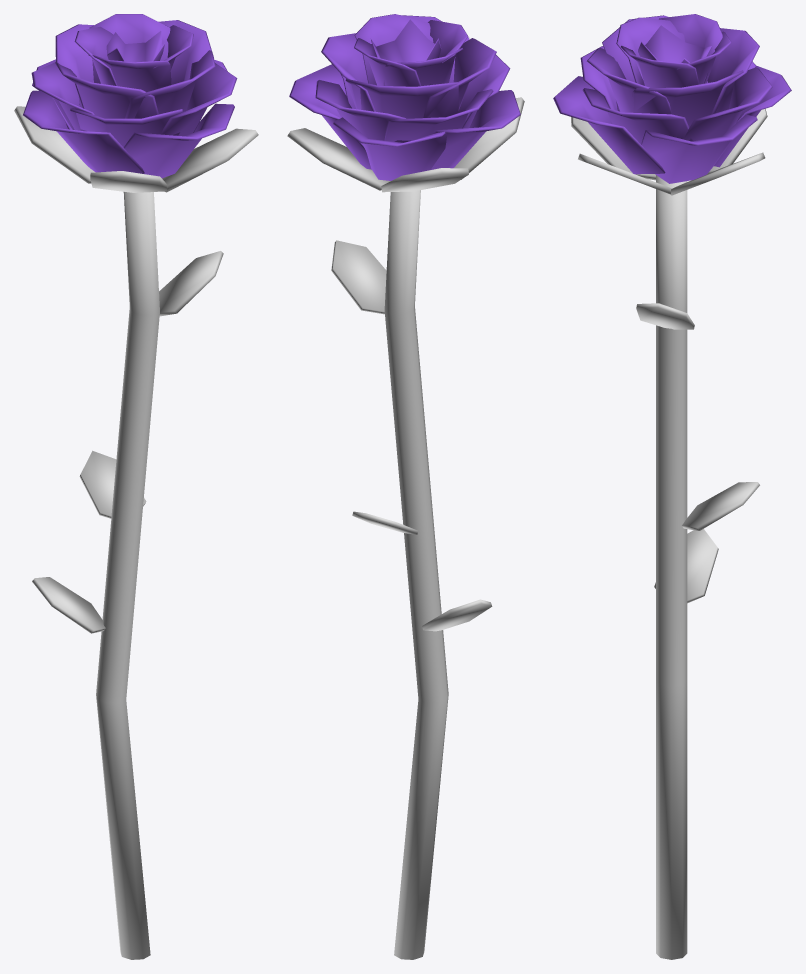
File: LostLove.glb
3 views of the same model, side by side, from view 1: azimuth 30°, elevation 25°; view 2: azimuth 150°, elevation 25°; view 3: azimuth 270°, elevation 25° (orthographic).
Visible parts, largest first — view 1: Cube.002, Plane, Plane.003, Plane.008, Cube.006, Plane.006, Cube.007, Plane.007, Cube.001, Plane.011, Cube.004, Plane.013 (+9 smaller); view 2: Cube.002, Plane.001, Cube.007, Plane.009, Plane, Plane.002, Cube.003, Plane.005, Plane.008, Plane.004, Plane.010, Plane.016 (+9 smaller); view 3: Cube.002, Plane.002, Plane.003, Plane.010, Plane.005, Plane.006, Plane.011, Plane.009, Cube.001, Cube, Plane.012, Plane.016 (+11 smaller).
Boxes of the visible parts, <box> form: Cube.002: <box>96,192,159,959</box>; Plane: <box>23,90,144,173</box>; Plane.003: <box>123,103,234,178</box>; Plane.008: <box>55,62,158,118</box>; Cube.006: <box>162,128,258,192</box>; Plane.006: <box>161,63,237,136</box>; Cube.007: <box>159,251,223,316</box>; Plane.007: <box>70,108,182,147</box>; Cube.001: <box>32,577,105,633</box>; Plane.011: <box>125,50,215,118</box>; Cube.004: <box>14,106,95,183</box>; Plane.013: <box>89,14,170,83</box>; Cube.002: <box>384,190,448,959</box>; Plane.001: <box>333,117,446,180</box>; Cube.007: <box>331,240,386,314</box>; Plane.009: <box>345,78,458,118</box>; Plane: <box>430,90,520,169</box>; Plane.002: <box>289,64,371,169</box>; Cube.003: <box>287,128,390,190</box>; Plane.005: <box>315,80,410,142</box>; Plane.008: <box>423,38,496,117</box>; Plane.004: <box>384,89,493,141</box>; Plane.010: <box>321,33,375,111</box>; Plane.016: <box>371,19,441,62</box>; Cube.002: <box>656,175,687,959</box>; Plane.002: <box>641,114,757,183</box>; Plane.003: <box>553,76,665,174</box>; Plane.010: <box>632,70,743,127</box>; Plane.005: <box>683,67,772,140</box>; Plane.006: <box>582,88,693,144</box>; Plane.011: <box>587,47,671,114</box>; Plane.009: <box>707,28,759,114</box>; Cube.001: <box>654,529,718,603</box>; Cube: <box>682,482,759,530</box>; Plane.012: <box>621,45,699,87</box>; Plane.016: <box>638,25,711,63</box>.
Size of the model in its own units: 0.2034 by 0.8759 by 0.2063.
